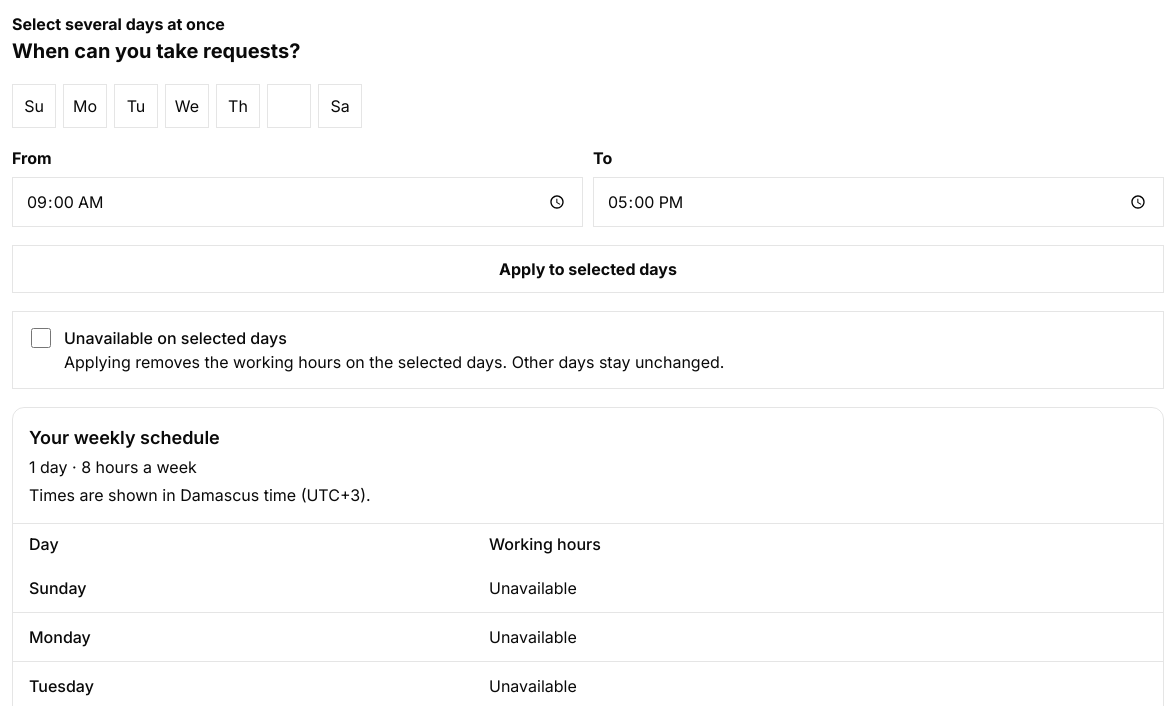
Test: states the API cannot persist are unreachable › refuses an invalid range over existing hours without first asking to replace them
Note: Friday is already selected. A shift past midnight, as one window.
Replace the text in the time field with test id "bulk-start" with "22:00" at (298, 202), box [12,177,583,227]
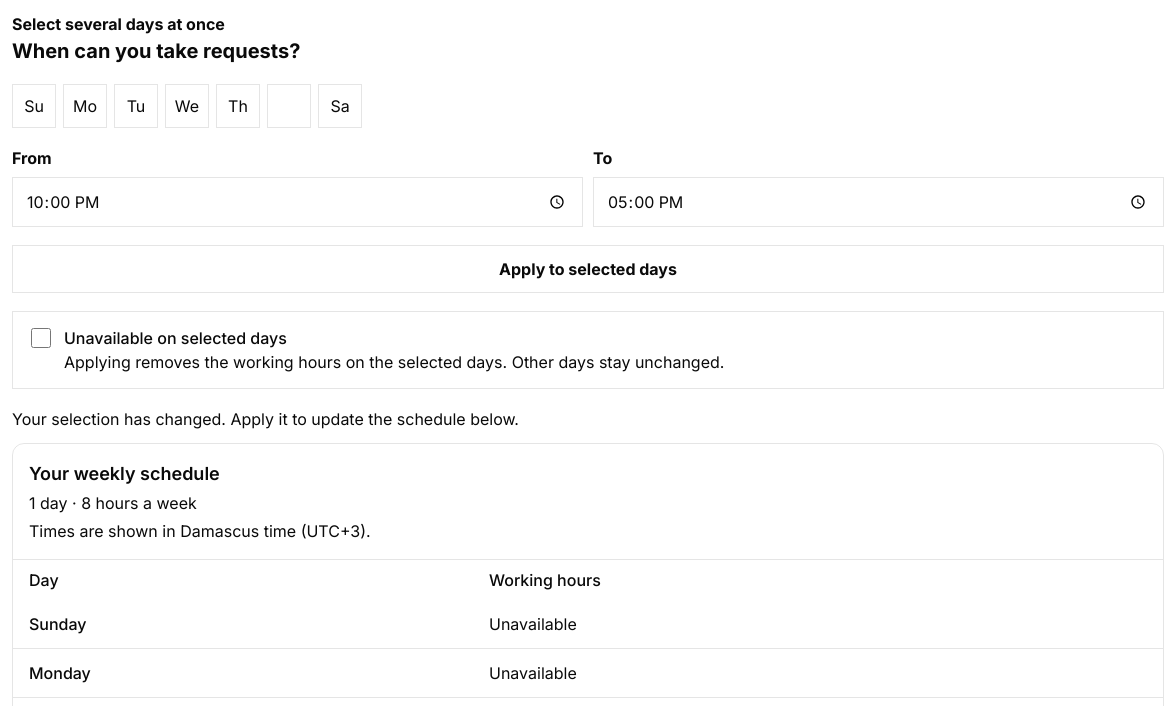
Replace the text in the time field with test id "bulk-end" with "02:00" at (878, 202), box [593,177,1164,227]
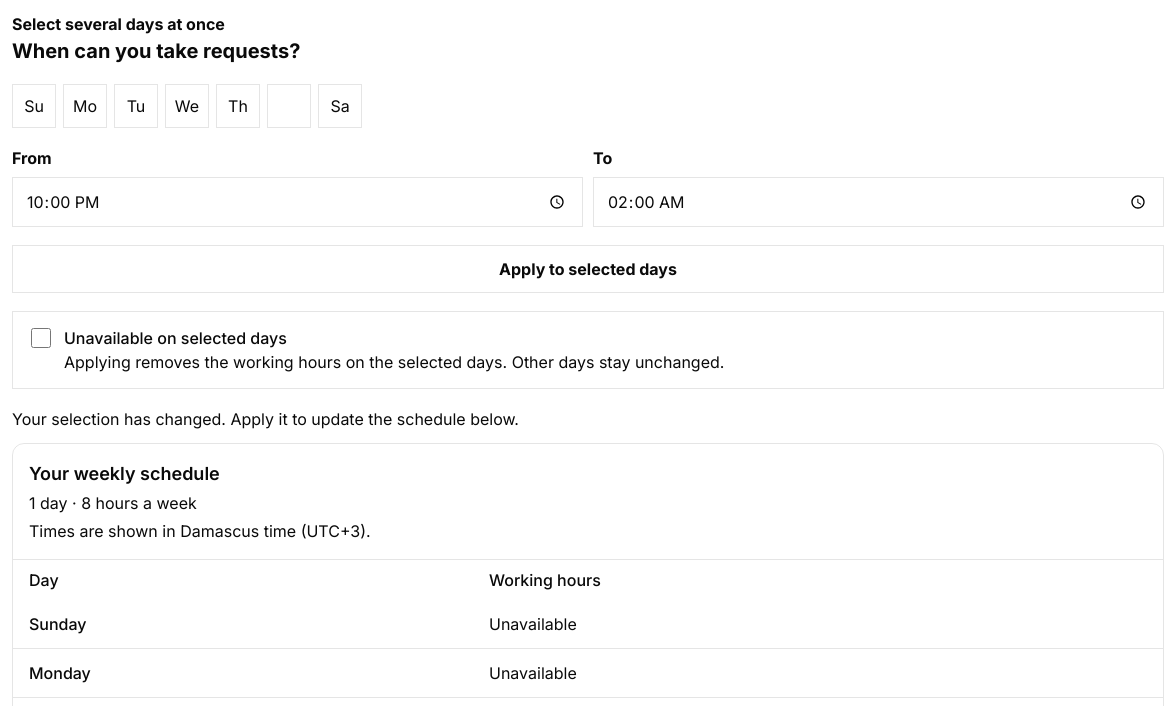
Click the button with test id "apply-to-selected" at (588, 269), box [12,245,1164,293]
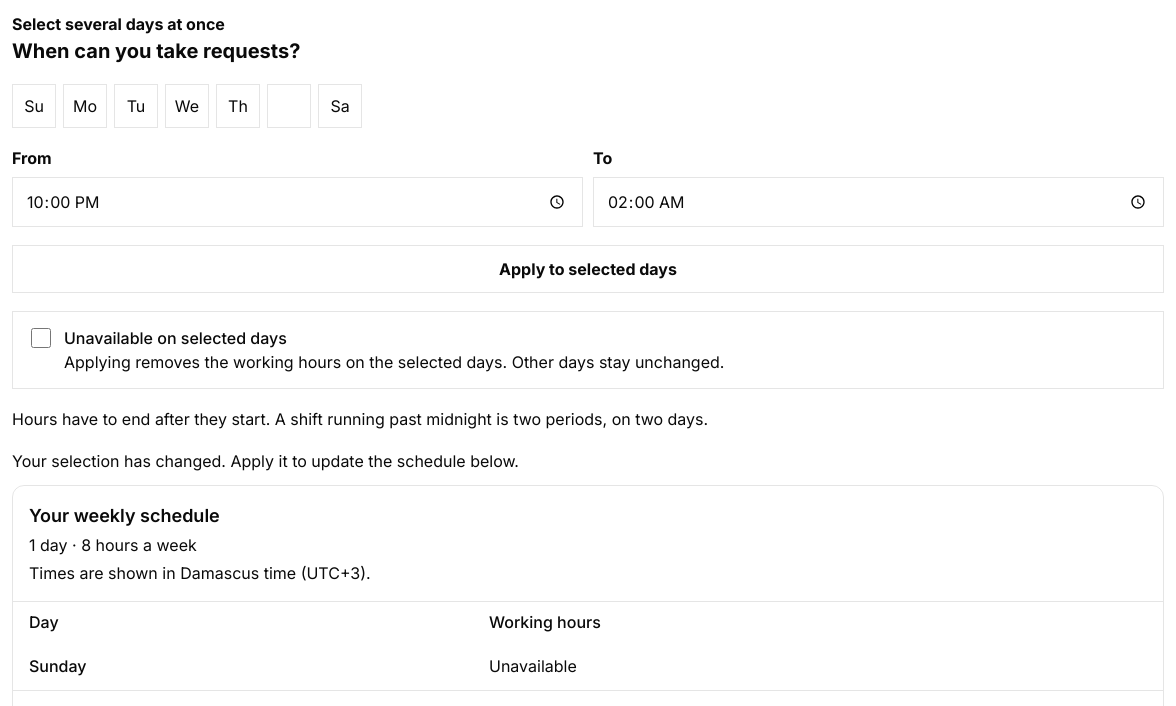
Check: the message with test id "availability-rejected" shows "Hours have to end after they start. A shift running past midnight is two periods, on two days.", box [12,409,708,429]
